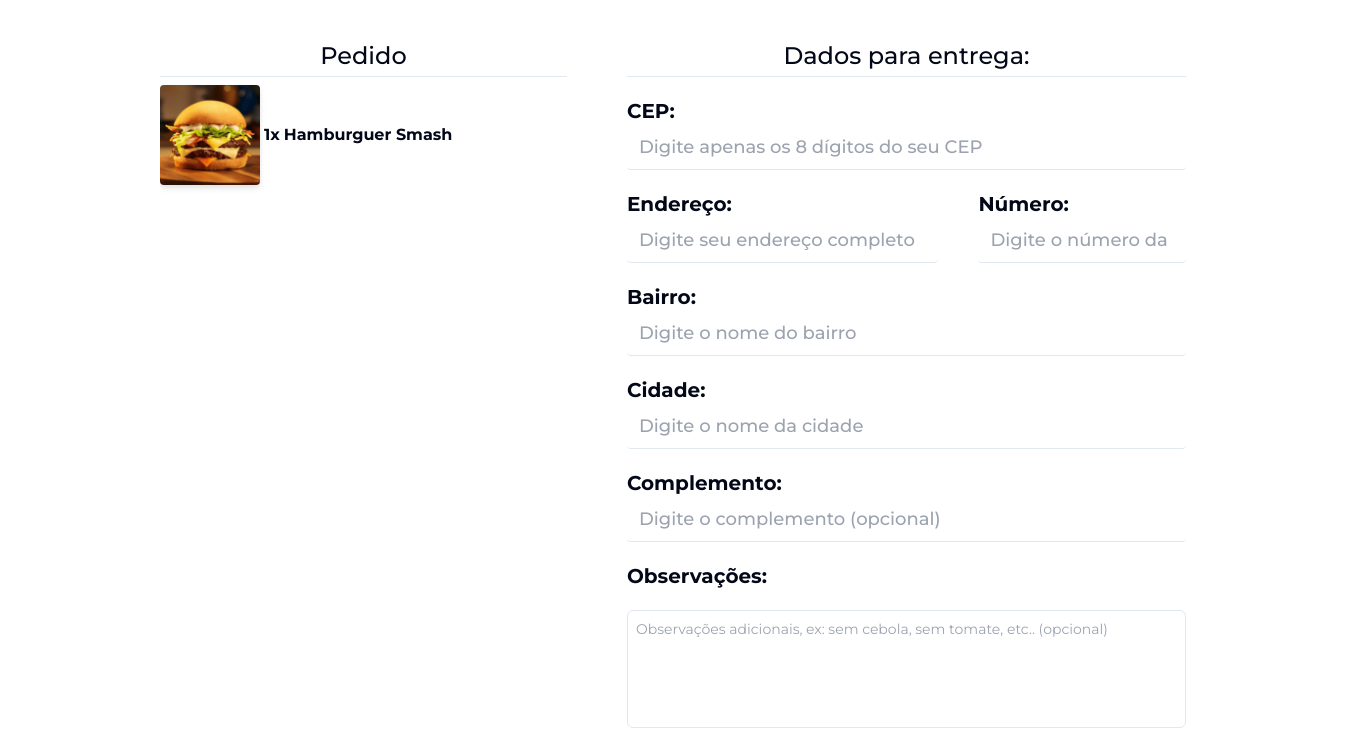
Delivery Page › should display an error when searching for an invalid zip code
Type "00000000" into the field named "zipCode".
click(906, 148); type("00000000")  # box [627,125,1186,170]
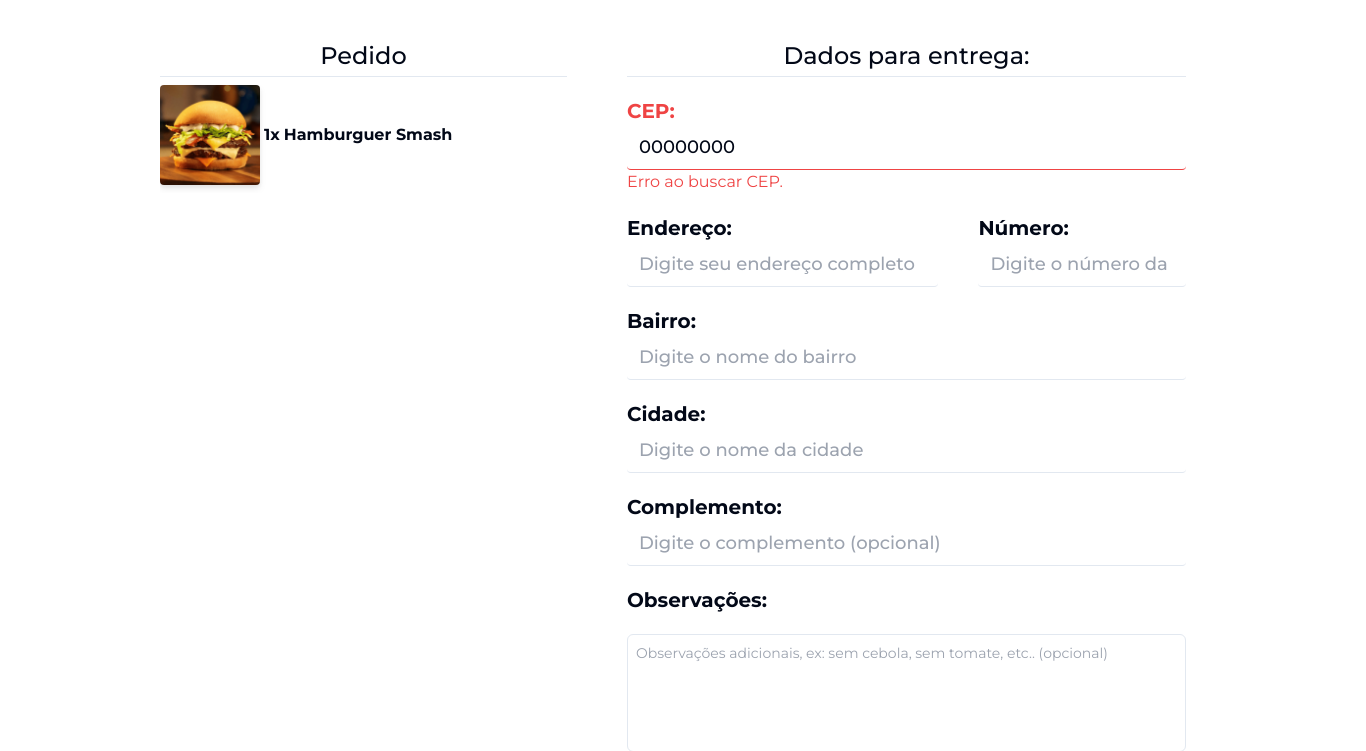
Result: the text "Erro ao buscar CEP." is shown at [627,172,783,191]
